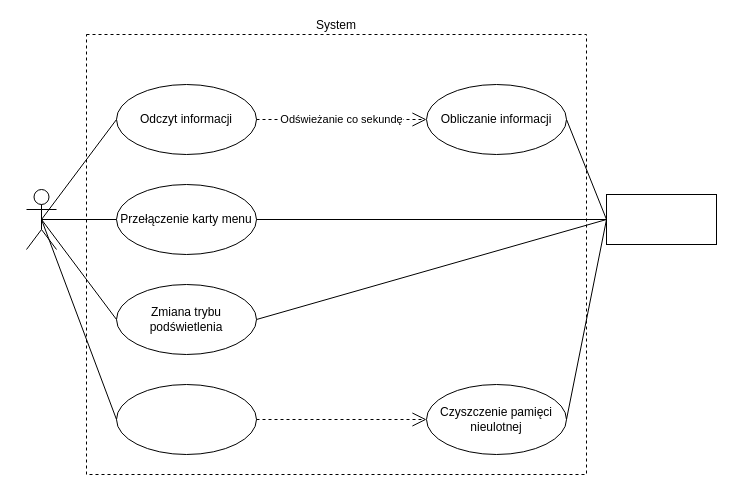
The diagram is 734 pixels wide and 492 high, and some of its shapes have lost their labels. The shapes that lost their labels are listed below. From the top down, each one's centre as x and y in pixels, then its label:
the point at 41,219: Kierowca
the point at 661,219: «aktor» Moduł Arduino
the point at 186,419: Reset zapisanych danych
